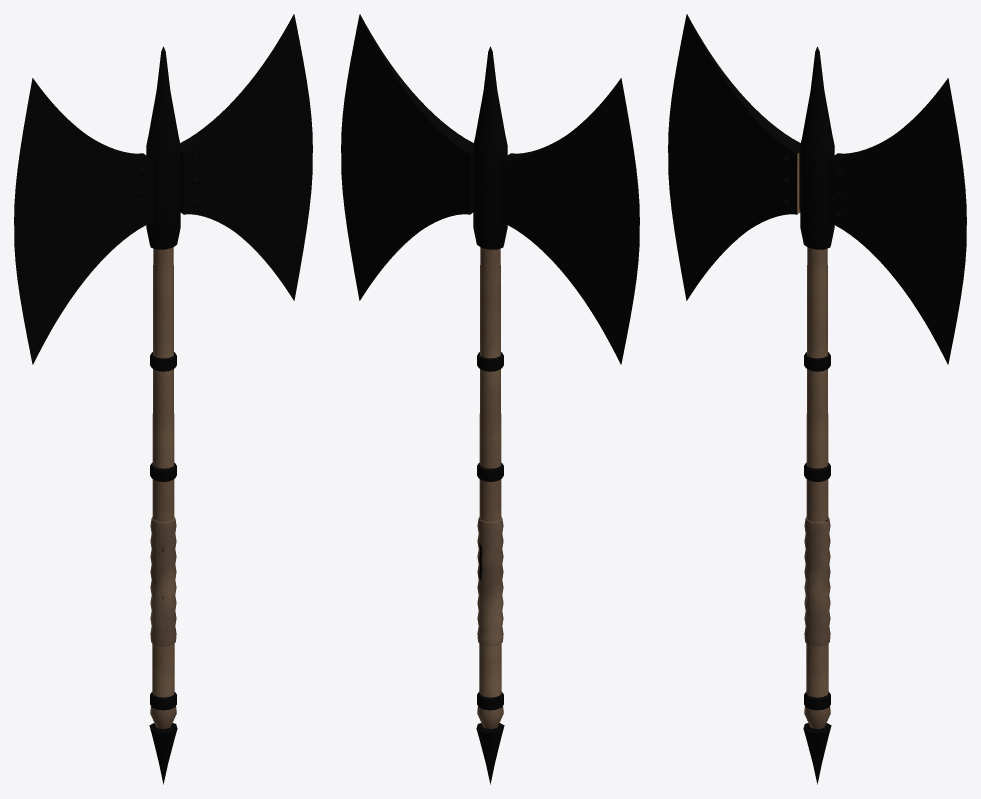
The model's file is Enemy_Axe.fbx.
3 renders of one model, left to right at view 1: azimuth 30°, elevation 25°; view 2: azimuth 150°, elevation 25°; view 3: azimuth 330°, elevation 25°, orthographic.
Parts seen in each view (by area): view 1: Enemy_Axe; view 2: Enemy_Axe; view 3: Enemy_Axe.
Boxes of the visible parts, x1,y1,x2,y2 form: Enemy_Axe: (14,14,312,784); Enemy_Axe: (341,14,639,784); Enemy_Axe: (668,14,966,784).
Size of the model in its own units: 0.566 by 1.34 by 0.048.
Materials: 1 (1 with a texture image).
